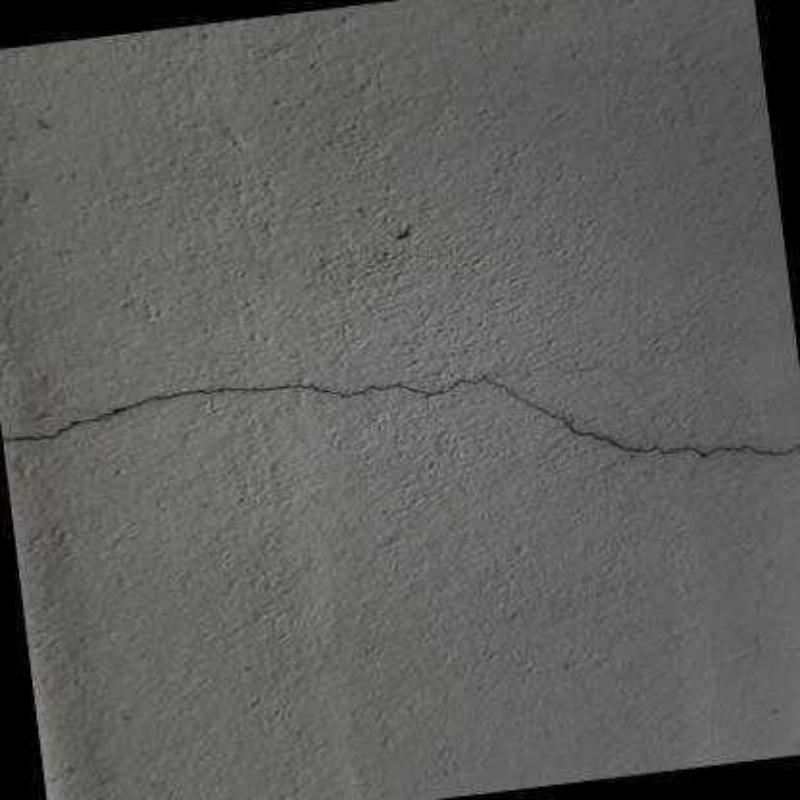crack: (1, 374, 798, 457)
